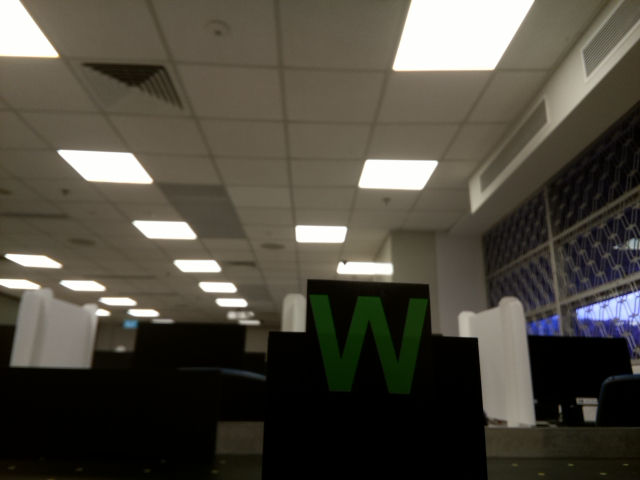w: (307, 288, 428, 398)
